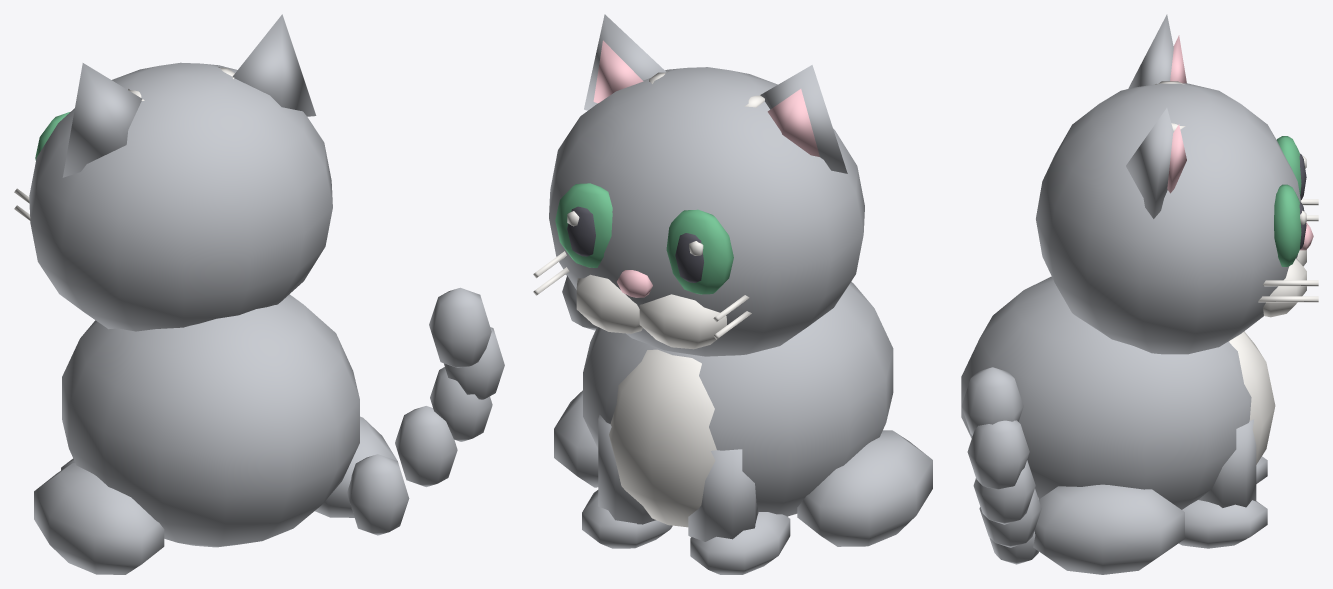
File: gatito.glb
3 renders of one model, left to right at view 1: azimuth 30°, elevation 25°; view 2: azimuth 150°, elevation 25°; view 3: azimuth 270°, elevation 25°, orthographic. The views are drawn at different scales.
Parts seen in each view (by area): view 1: Sphere.002, Sphere, Sphere.008, Cone, Cone.002, Sphere.016, Sphere.020, Sphere.017, Sphere.018, Sphere.014, Sphere.019; view 2: Sphere.002, Sphere, Sphere.001, Sphere.008, Cylinder, Sphere.007, Sphere.006, Sphere.003, Cone, Sphere.012, Sphere.009, Sphere.014 (+9 smaller); view 3: Sphere.002, Sphere, Sphere.014, Sphere.019, Sphere.013, Sphere.020, Cone.002, Cylinder.001, Sphere.001, Sphere.018, Sphere.009, Cone (+6 smaller).
Part boxes in pixels (left/top/right/bottom): Sphere.002: left=29, top=62, right=332, bottom=331; Sphere: left=62, top=294, right=359, bottom=547; Sphere.008: left=34, top=463, right=164, bottom=574; Cone: left=62, top=63, right=142, bottom=177; Cone.002: left=232, top=14, right=316, bottom=116; Sphere.016: left=347, top=454, right=409, bottom=535; Sphere.020: left=429, top=287, right=491, bottom=367; Sphere.017: left=395, top=406, right=457, bottom=487; Sphere.018: left=430, top=367, right=492, bottom=441; Sphere.014: left=315, top=416, right=397, bottom=517; Sphere.019: left=444, top=327, right=504, bottom=399; Sphere.002: left=549, top=67, right=864, bottom=356; Sphere: left=583, top=281, right=893, bottom=516; Sphere.001: left=609, top=349, right=716, bottom=527; Sphere.008: left=797, top=430, right=932, bottom=546; Cylinder: left=688, top=449, right=758, bottom=541; Sphere.007: left=690, top=512, right=790, bottom=574; Sphere.006: left=639, top=294, right=726, bottom=349; Sphere.003: left=666, top=209, right=733, bottom=294; Cone: left=760, top=65, right=847, bottom=173; Sphere.012: left=576, top=274, right=642, bottom=333; Sphere.009: left=555, top=183, right=612, bottom=267; Sphere.014: left=554, top=390, right=598, bottom=487; Sphere.002: left=1036, top=83, right=1301, bottom=354; Sphere: left=961, top=276, right=1251, bottom=509; Sphere.014: left=1033, top=484, right=1184, bottom=574; Sphere.019: left=967, top=420, right=1029, bottom=489; Sphere.013: left=1178, top=500, right=1267, bottom=548; Sphere.020: left=961, top=367, right=1023, bottom=435; Cone.002: left=1126, top=108, right=1173, bottom=218; Cylinder.001: left=1198, top=419, right=1256, bottom=507; Sphere.001: left=1229, top=331, right=1275, bottom=464; Sphere.018: left=973, top=460, right=1035, bottom=524; Sphere.009: left=1274, top=184, right=1301, bottom=266; Cone: left=1128, top=14, right=1173, bottom=88.
Size of the model in its own units: 0.9185 by 1.05 by 0.7451.
